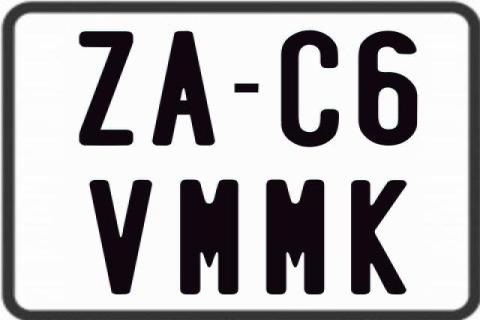0: (355, 31, 420, 148)
A: (152, 30, 218, 148)
C: (281, 31, 339, 149)
K: (349, 180, 407, 298)
M: (266, 177, 327, 292), (180, 179, 239, 295)
V: (88, 178, 153, 292)
Z: (76, 30, 134, 146)
